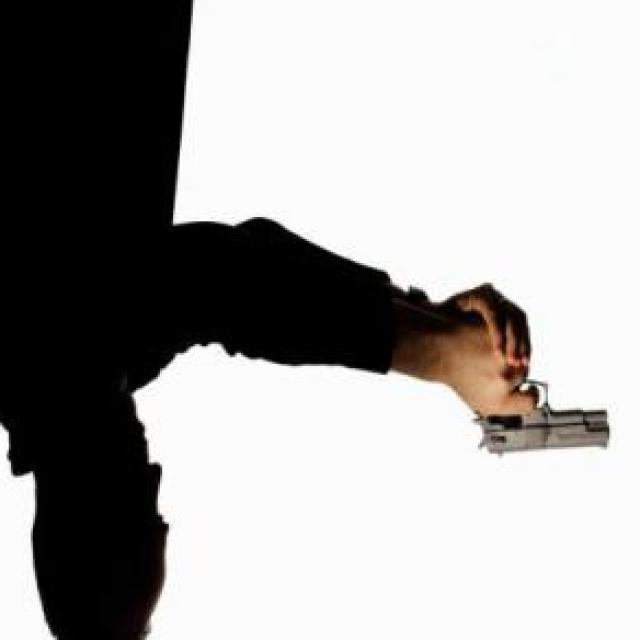pistol: (472, 366, 610, 458)
